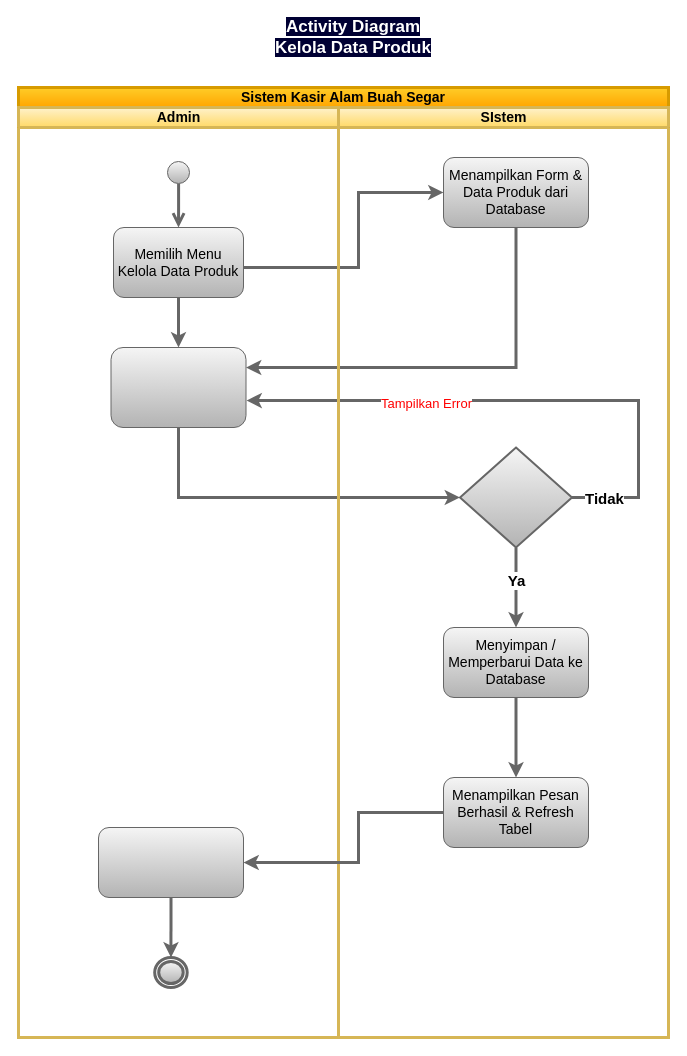
The diagram is 687 pixels wide and 1056 high, and some of its shapes have lost their labels. The box of each missing label's shape, as (x1, y1, x2, y2) in pixels:
Data Valid & Lengkap?: (458, 446, 572, 548)
Melihat Data Produk Terbaru: (98, 826, 244, 898)
Memilih Aksi (Tambah/Edit/Update Stok Rak): (110, 346, 246, 428)
